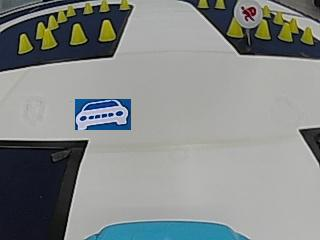thief: (233, 0, 263, 28)
